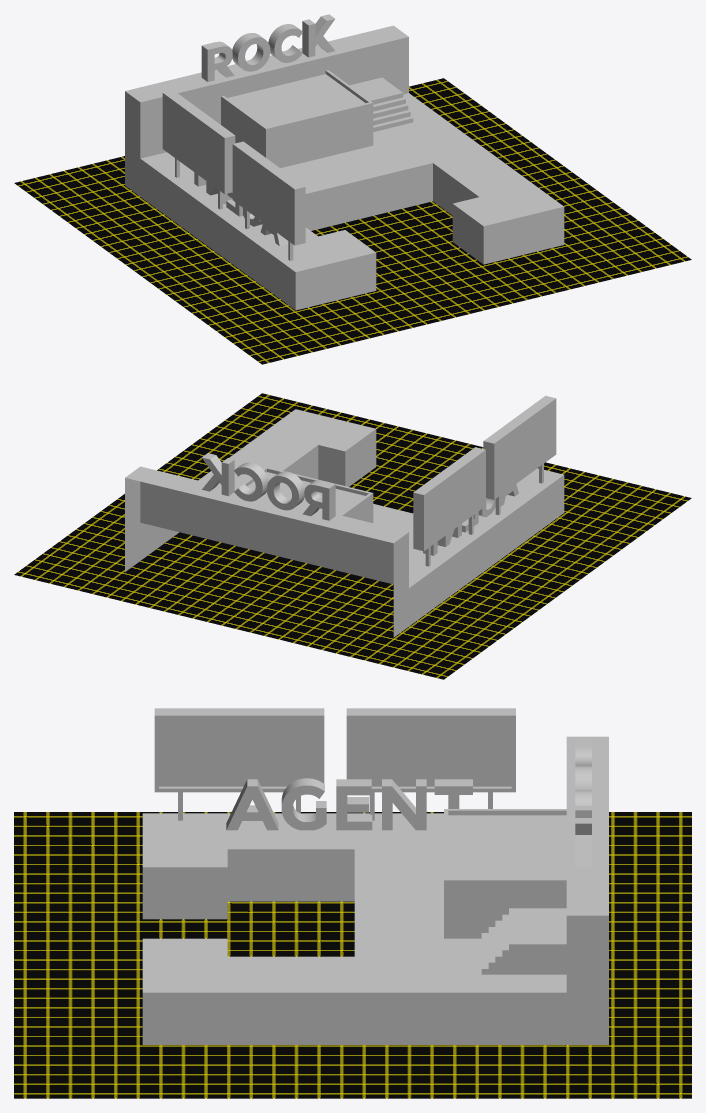
3 views of the same model, one above another, from view 1: azimuth 30°, elevation 25°; view 2: azimuth 150°, elevation 25°; view 3: azimuth 270°, elevation 25° (orthographic). The views are drawn at different scales.
Visible parts, largest first — view 1: Object005, Plane003, Object003, Object002; view 2: Plane003, Object005, Object003, Object002; view 3: Object005, Plane003, Object003, Object002.
Part boxes in pixels (box(x1,y1,x2,y2)): Object005: box(125, 25, 564, 310); Plane003: box(14, 78, 691, 364); Object003: box(162, 90, 305, 260); Object002: box(194, 14, 334, 245); Plane003: box(14, 393, 691, 679); Object005: box(125, 409, 564, 637); Object003: box(413, 395, 556, 566); Object002: box(202, 453, 518, 555); Object005: box(142, 736, 608, 1044); Plane003: box(14, 812, 691, 1098); Object003: box(154, 708, 515, 820); Object002: box(226, 738, 591, 867).
Bounding box in the file's own units: 800 × 228 × 800.
